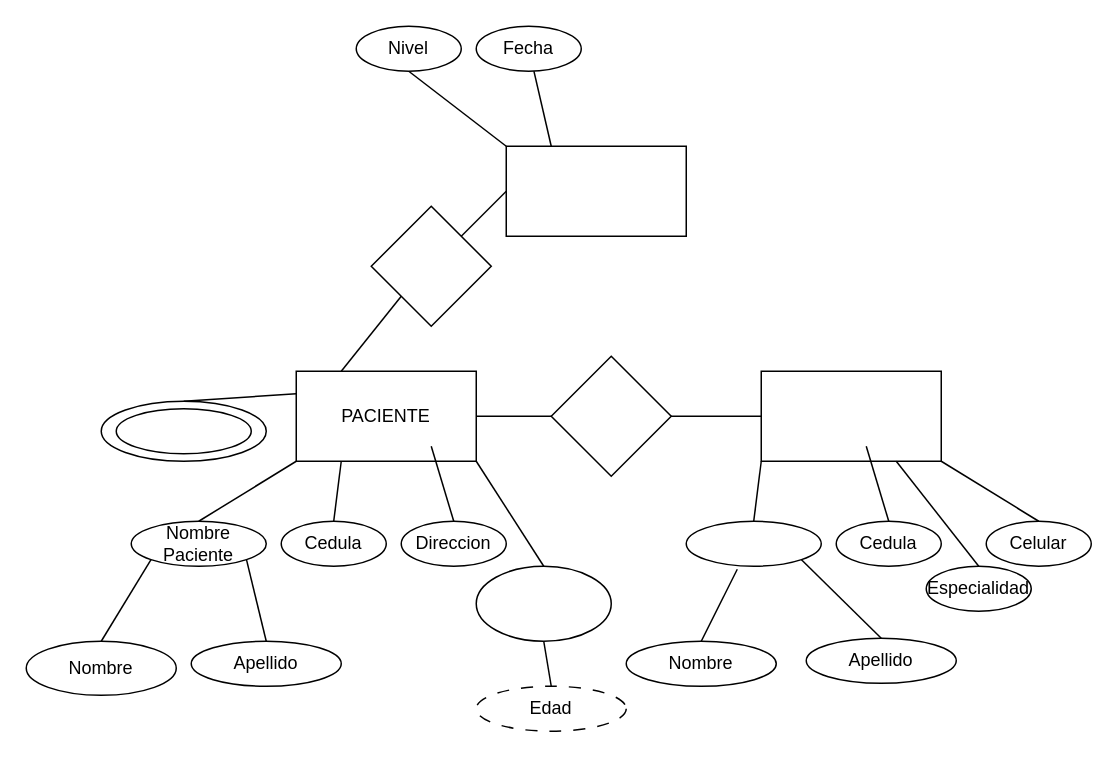
The diagram is 1118 pixels wide and 758 high, and some of its shapes have lost their labels. The shapes that lost their labels are listed below. From the top down, each one's box as (x1, y1, x2, y2) in pixels, then its label:
(505, 145, 686, 236): TRIAGE
(370, 205, 491, 326): Ingresar
(115, 407, 251, 454): Telefono
(550, 355, 671, 476): Atender
(760, 370, 941, 461): MEDICO
(685, 520, 821, 566): Nombre Medico
(475, 565, 611, 641): Fecha de Nacimiento
